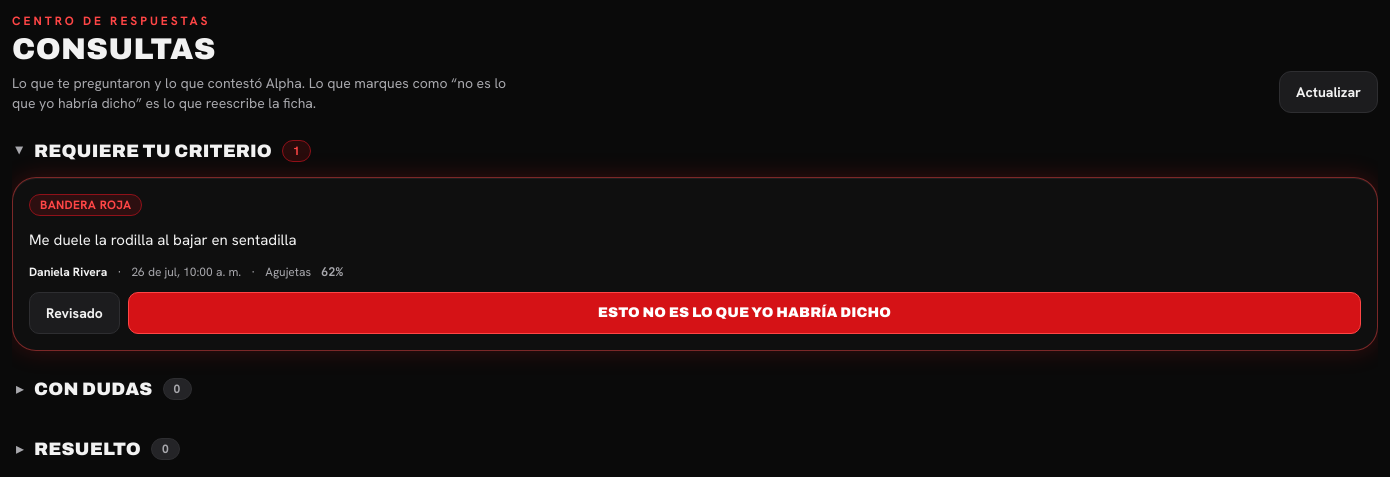
Test: ConsultasPage › marcar la correccion guarda revisado y corregido
Click the button "Esto no es lo que yo habría dicho".
click(744, 313)  # box 128,292 -> 1361,334
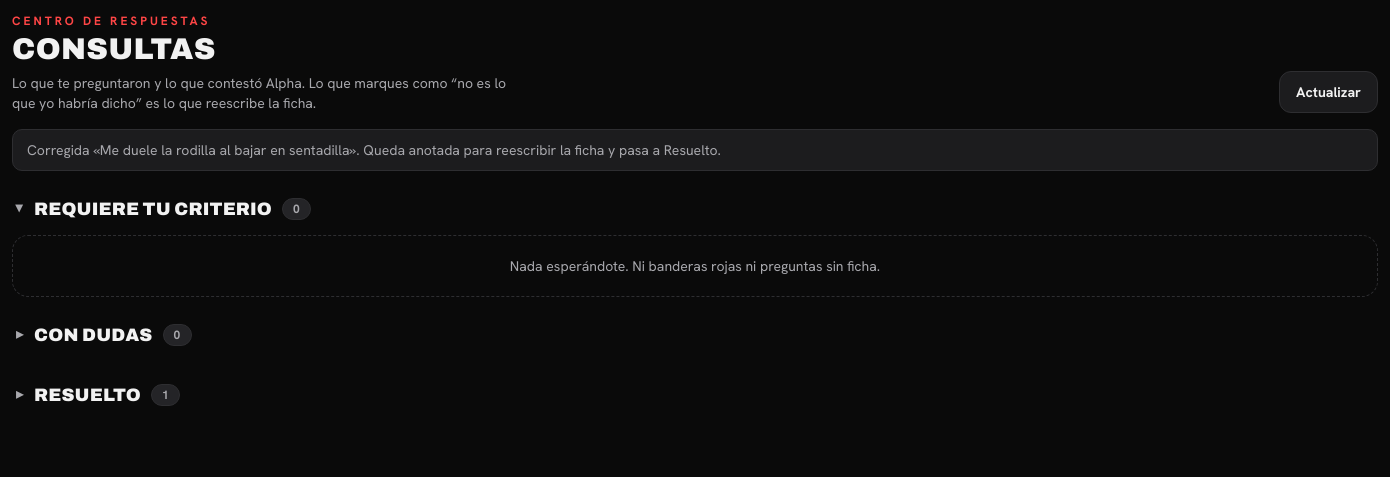
Now the message shows "Corregida «Me duele la rodilla", box 27,141 -> 721,159
Now the message shows "pasa a Resuelto", box 27,141 -> 721,159
